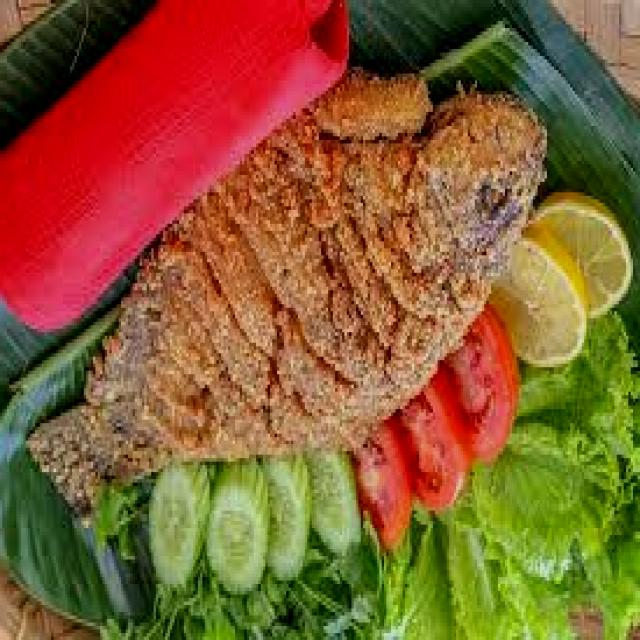ikan goreng: (26, 66, 547, 535)
